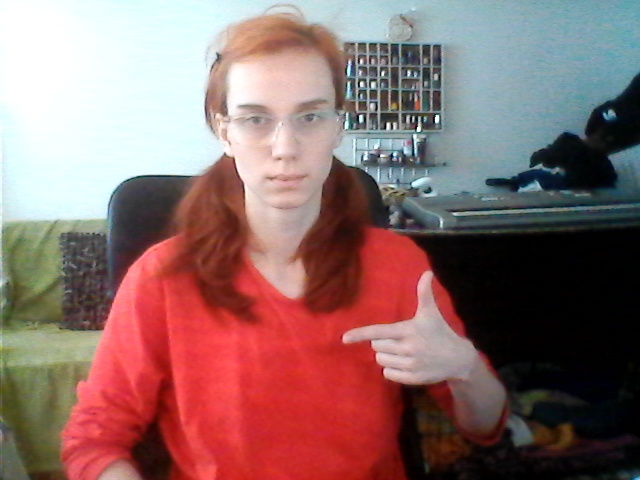dva_dve: (330, 267, 467, 397)
